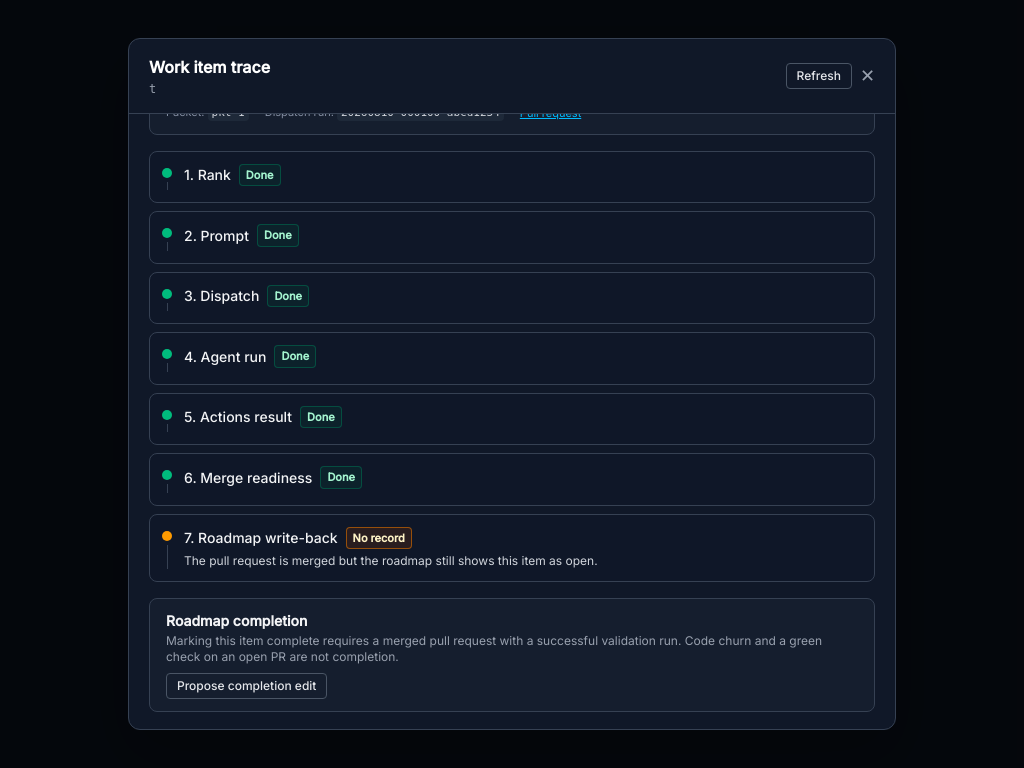
Test: WorkItemTraceModal — roadmap write-back › renders the proposed edit as a diff before anything is written
(page scrolled)
Check: the element with test id "work-item-write-back" is shown, box [149,598,875,712]
Click the button with test id "work-item-write-back-preview" at [247, 686], box [166,673,327,699]
(page scrolled)
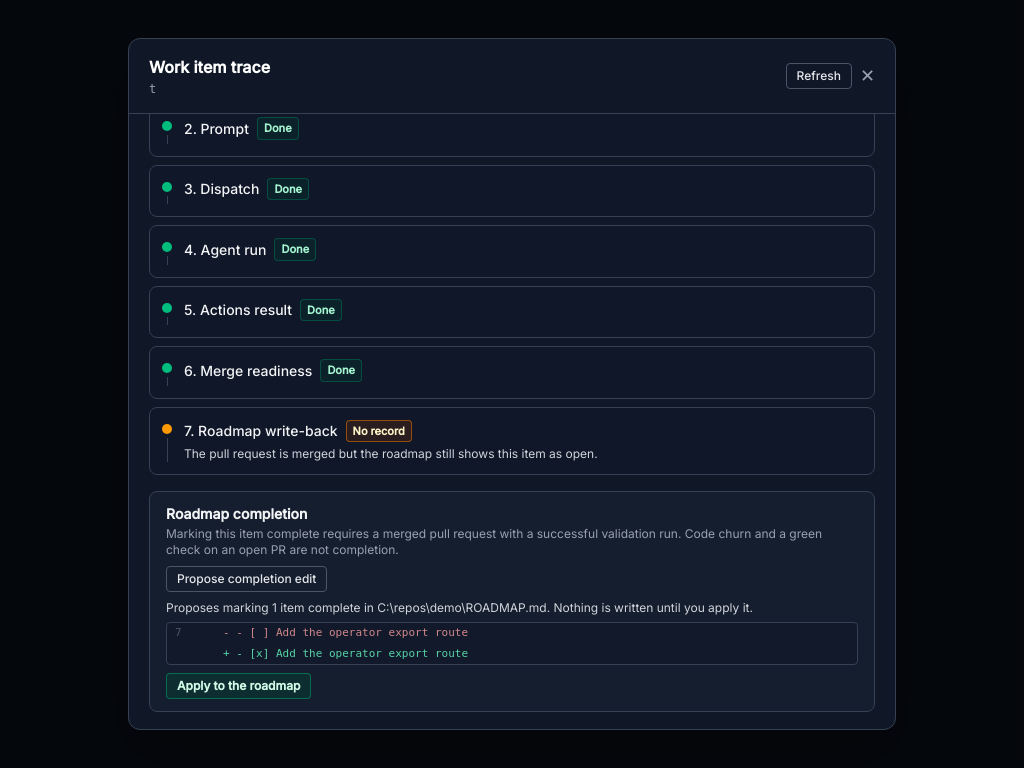
Check: the element with test id "work-item-write-back-preview-result" shows "- [ ] Add the operator export route", box [236,626,468,639]
Check: the element with test id "work-item-write-back-preview-result" shows "+ - [x] Add the operator export route", box [166,600,858,699]
Check: the element with test id "work-item-write-back-preview-result" shows "Nothing is written until you apply it.", box [166,600,753,615]
